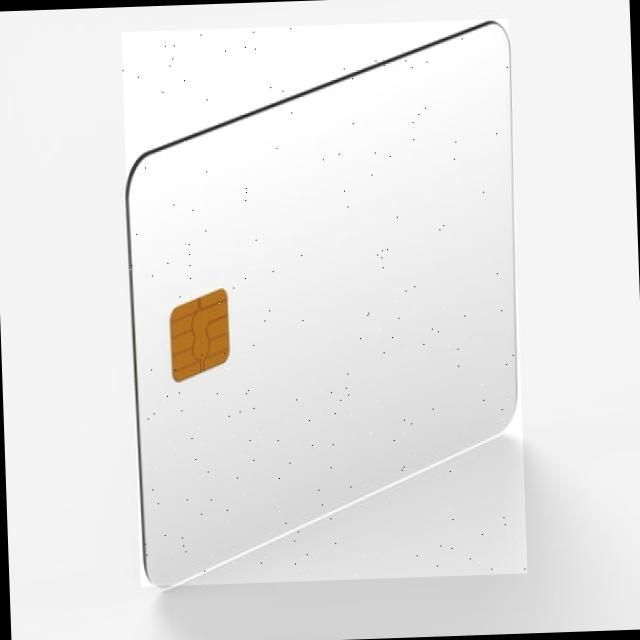payment_card: (122, 20, 526, 588)
